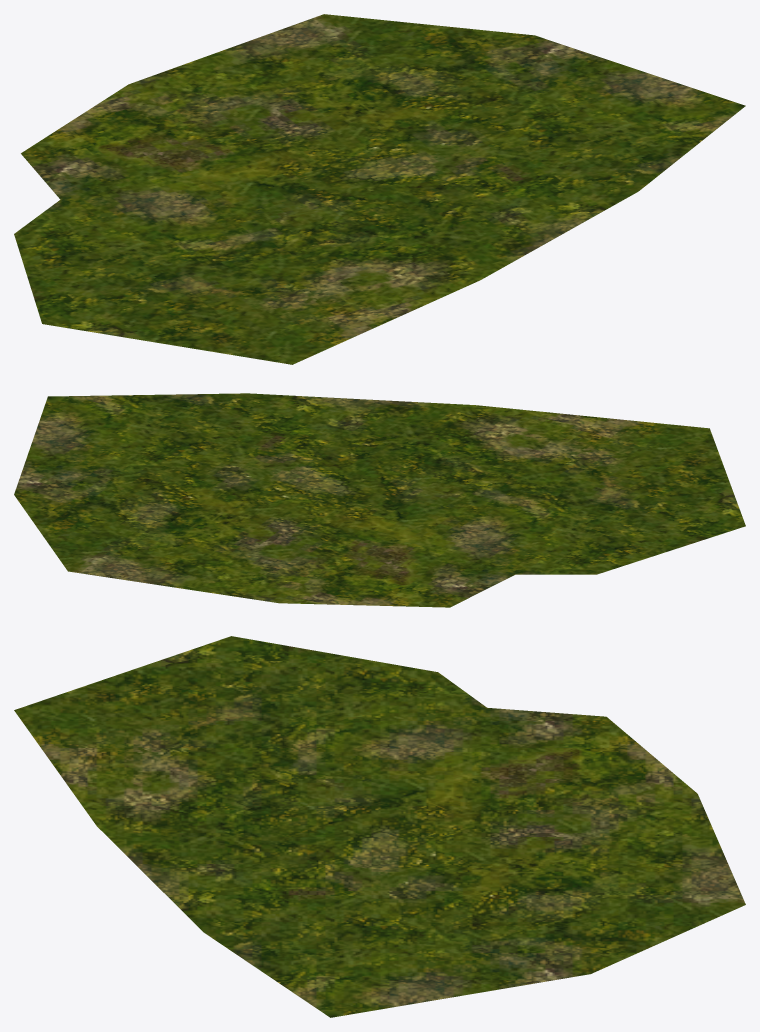
The model's file is OVERHILL_A_01_OBJECT28.fbx.
The picture shows the model from 3 angles, top to bottom: view 1: azimuth 30°, elevation 25°; view 2: azimuth 150°, elevation 25°; view 3: azimuth 270°, elevation 25°; orthographic projection. The views are drawn at different scales.
Visible parts, largest first — view 1: OVERHILL_A_01_OBJECT28; view 2: OVERHILL_A_01_OBJECT28; view 3: OVERHILL_A_01_OBJECT28.
Part boxes in pixels (x1=…): OVERHILL_A_01_OBJECT28: x1=14, y1=14, x2=745, y2=364; OVERHILL_A_01_OBJECT28: x1=14, y1=393, x2=745, y2=607; OVERHILL_A_01_OBJECT28: x1=14, y1=636, x2=745, y2=1017.
Bounding box in the file's own units: 30853 × 0.00407 × 24998.
1 material, 1 textured.
